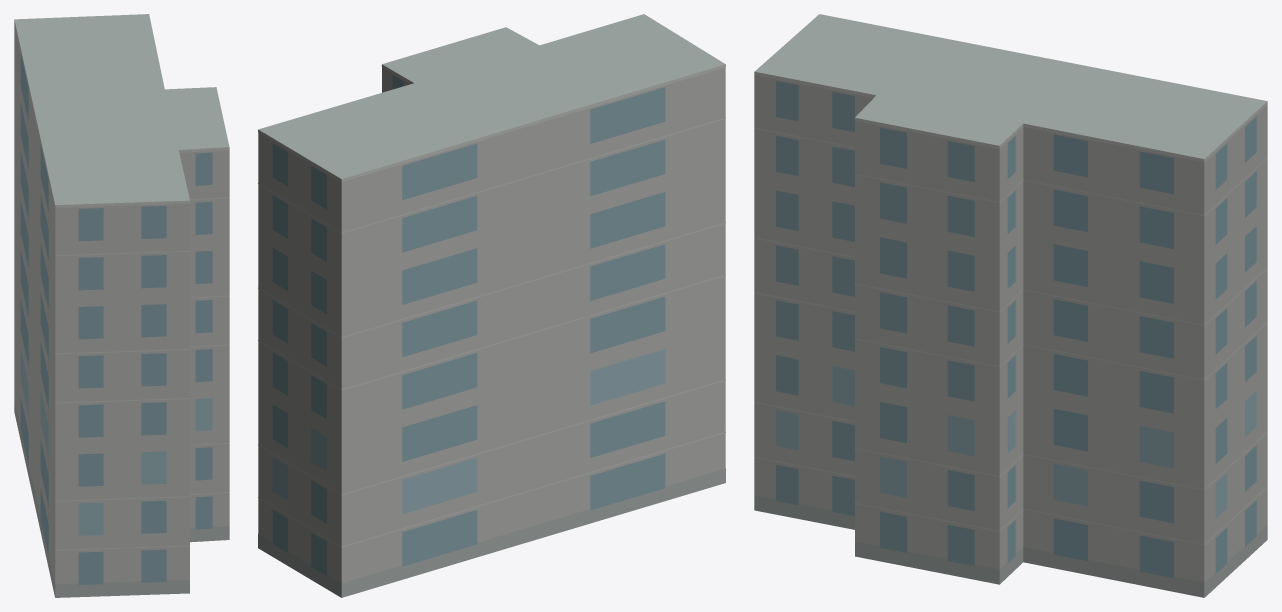
File: survey-upis-32483118.glb
The picture shows the model from 3 angles, left to right: view 1: azimuth 30°, elevation 25°; view 2: azimuth 150°, elevation 25°; view 3: azimuth 270°, elevation 25°; orthographic projection. The views are drawn at different scales.
Visible parts, largest first — view 1: survey-upis-32483118.tmp; view 2: survey-upis-32483118.tmp; view 3: survey-upis-32483118.tmp.
Part boxes in pixels (x1,y1,x2,y2): survey-upis-32483118.tmp: (14, 14, 229, 597); survey-upis-32483118.tmp: (258, 14, 725, 597); survey-upis-32483118.tmp: (754, 14, 1267, 597).
Bounding box in the file's own units: 22.98 × 32.35 × 34.31.
